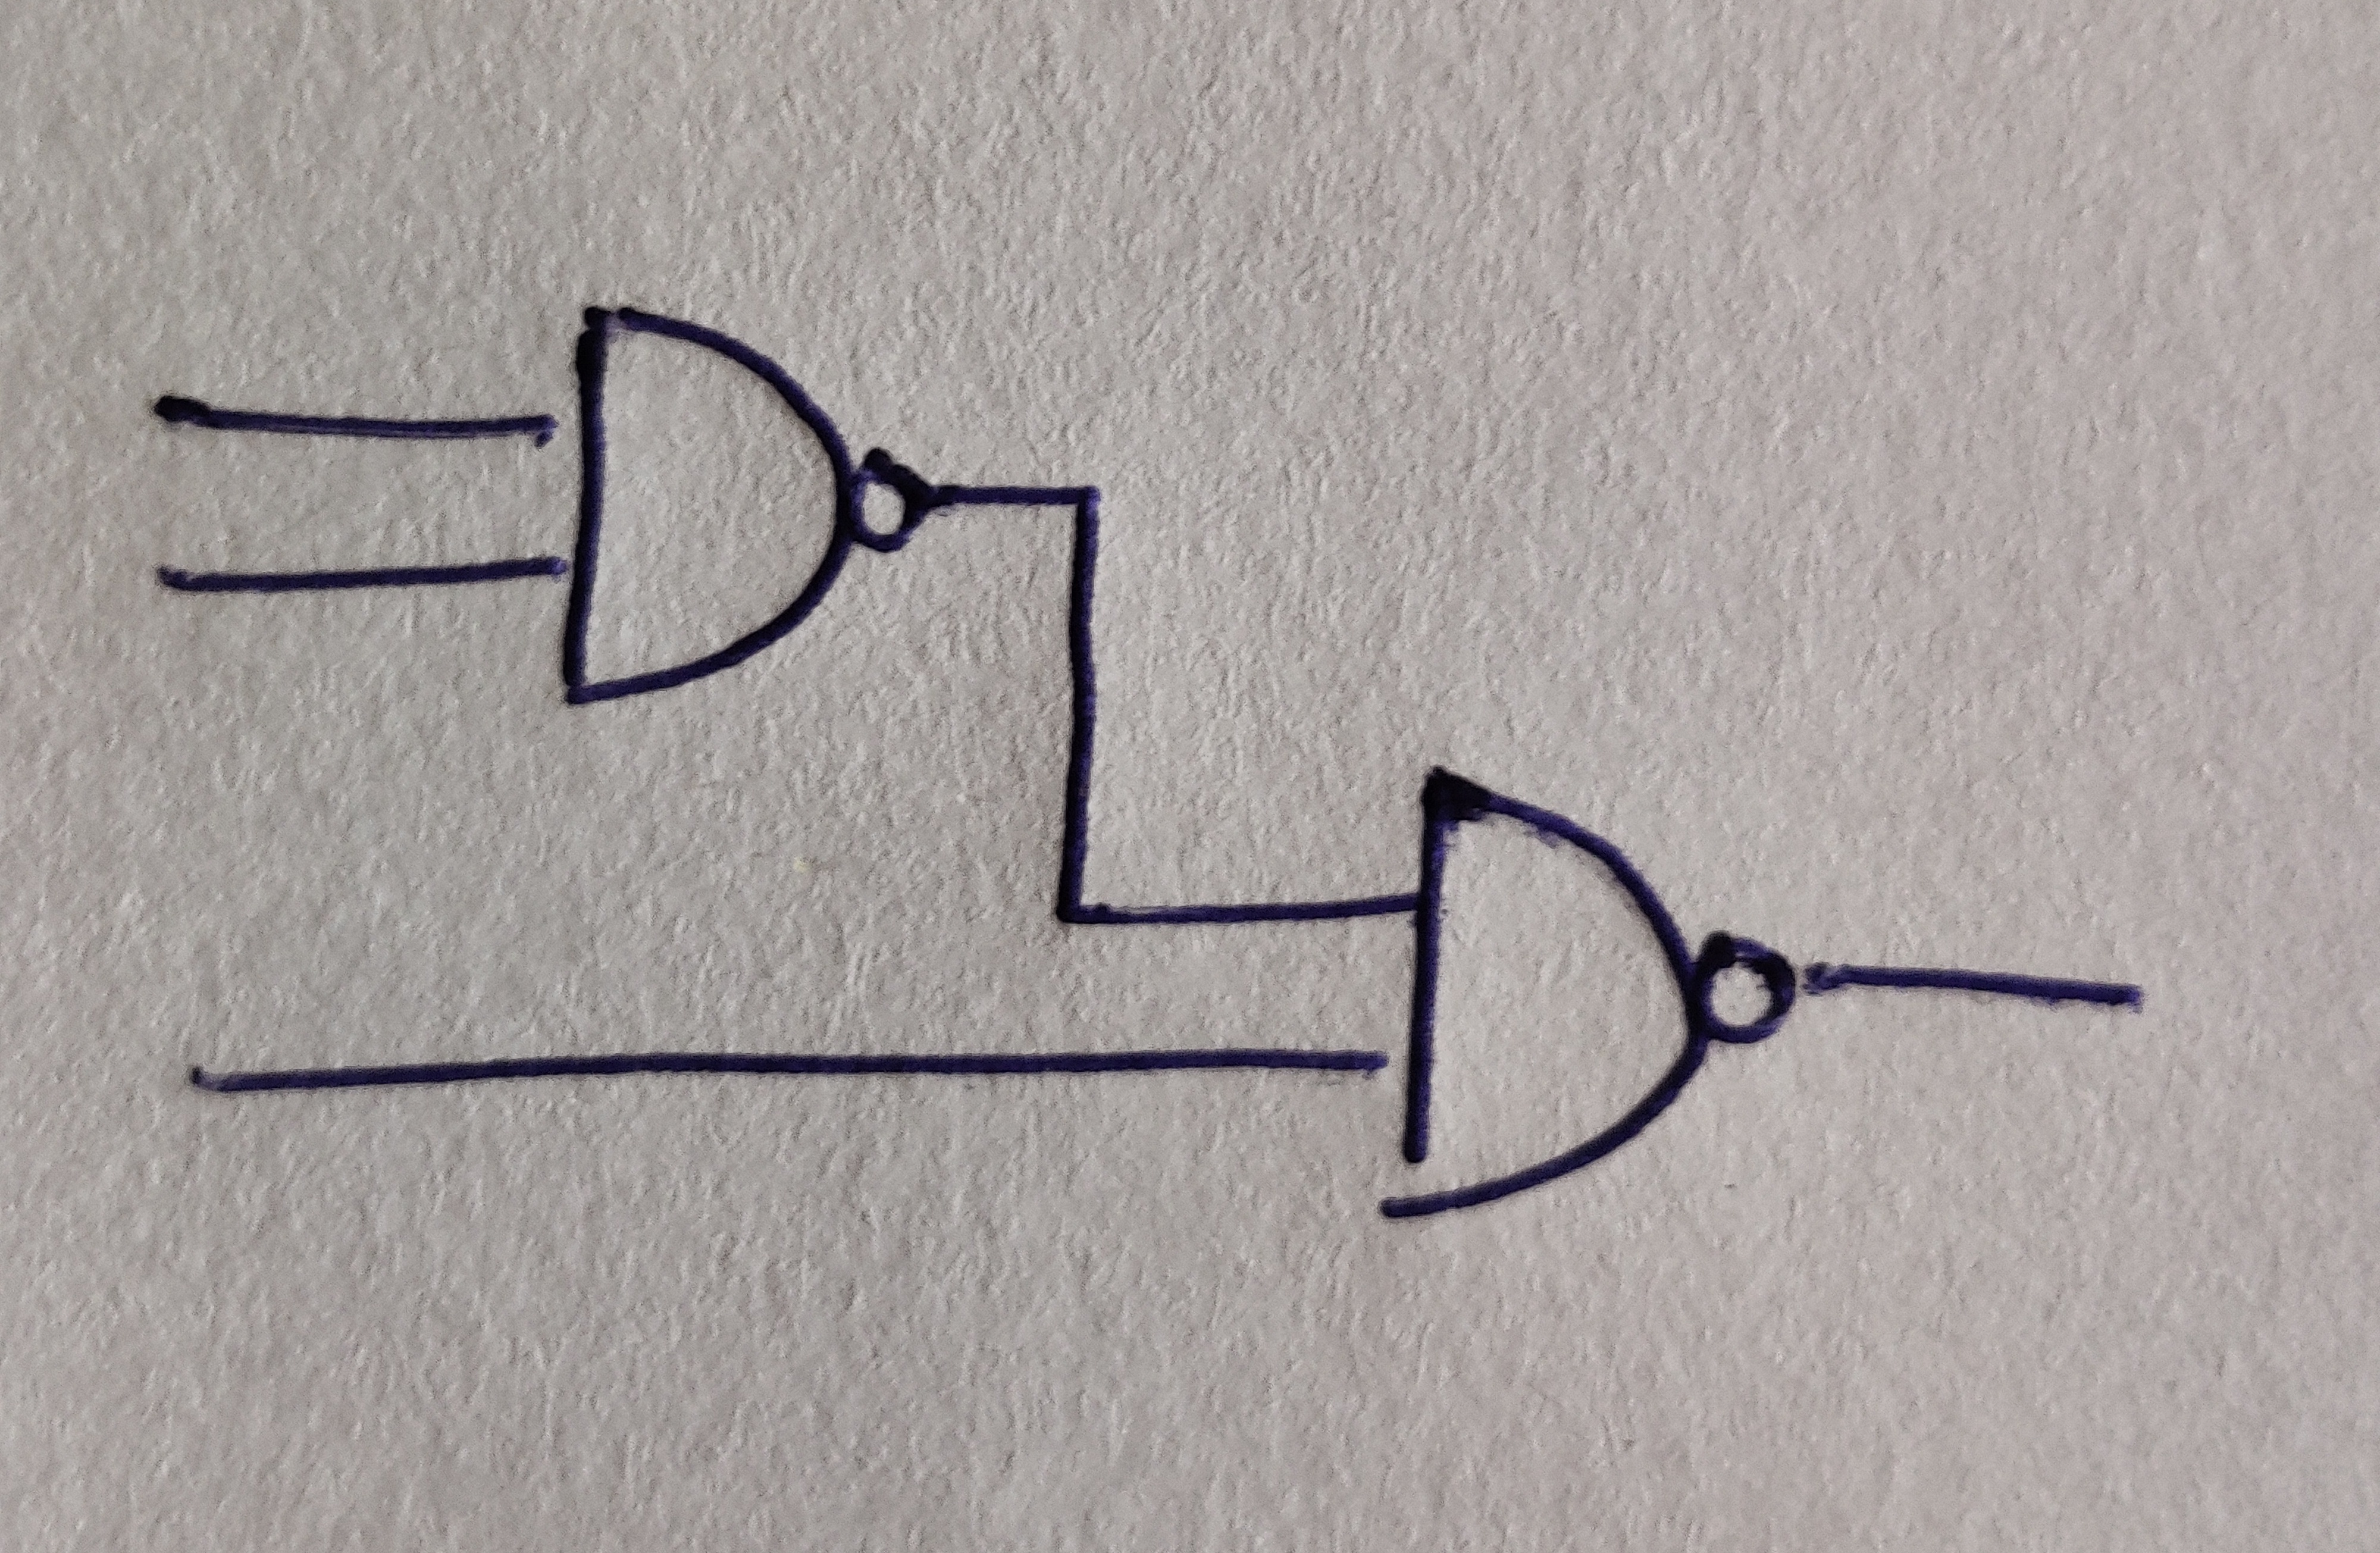and: (1379, 769, 1698, 1220), (562, 309, 853, 706)
not: (1697, 930, 1794, 1045), (853, 448, 932, 555)
